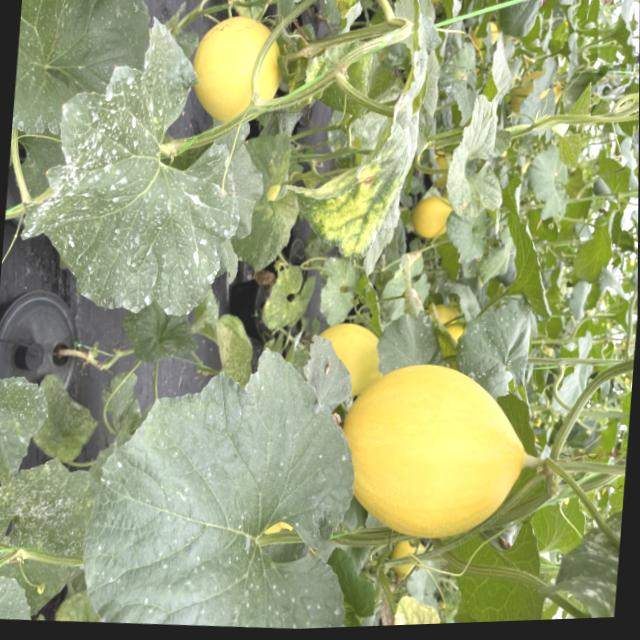alternaria leaf blight: (282, 0, 435, 267)
downy mildew: (75, 338, 363, 637)
powdery mildew: (14, 23, 253, 339), (0, 440, 105, 593), (0, 352, 54, 497)
